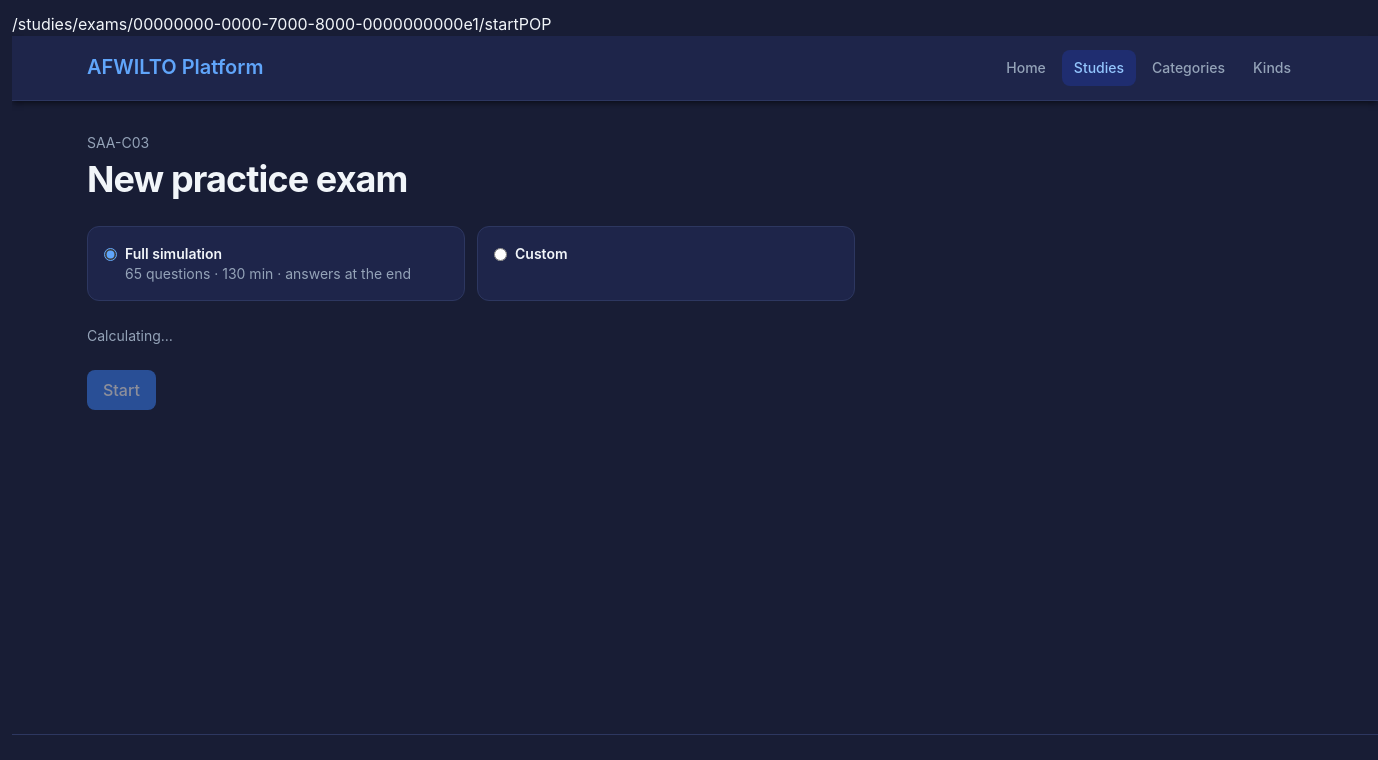
SessionSetupPage: the two modes (FR-7) › the minutes field exists only with "Timed"
Expected: the radio button labelled "Full simulation 65 questions · 130 min · answers at the end" is shown, x1=104 y1=248 x2=117 y2=261
Click the radio button labelled "Custom" at (500, 254), box x1=494 y1=248 x2=507 y2=261
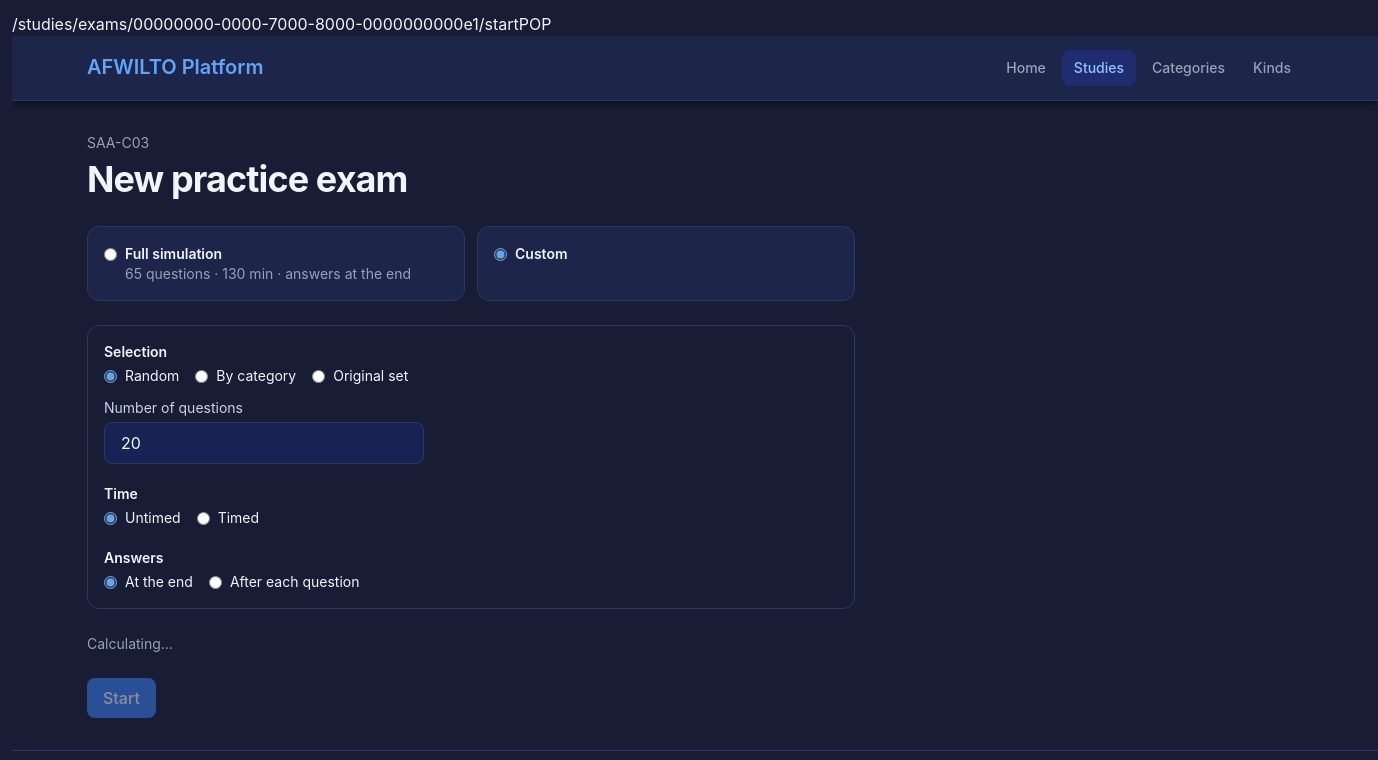
Expected: the field labelled "Minutes" is not shown
Click the radio button labelled "Timed" at (203, 518), box x1=197 y1=512 x2=210 y2=525
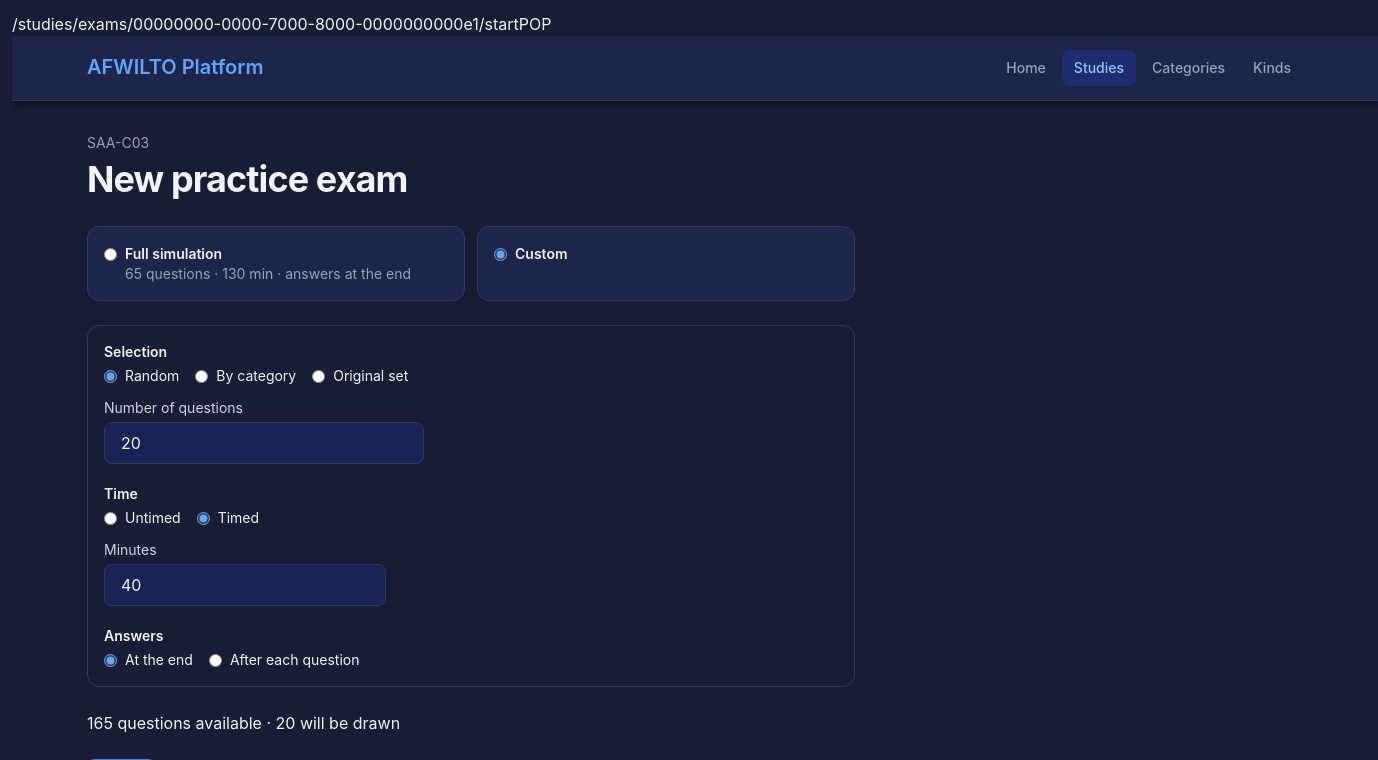
Expected: the field labelled "Minutes" is shown, x1=104 y1=564 x2=386 y2=606
